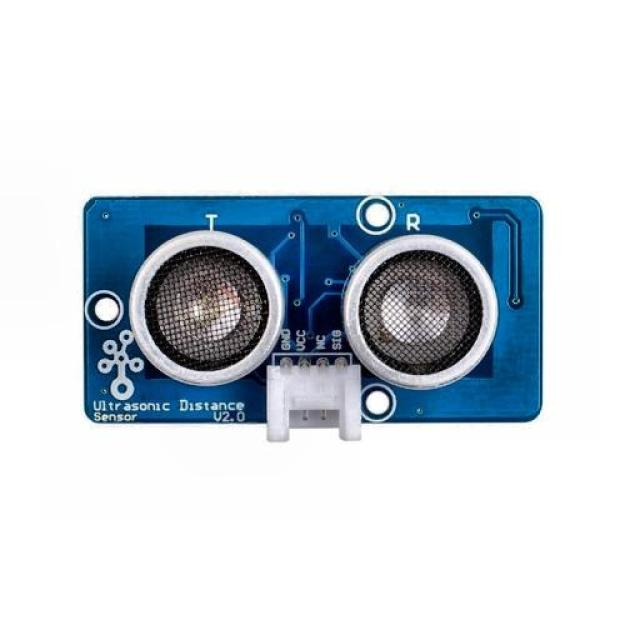Ultrasonic Sensor: (65, 178, 561, 454)
